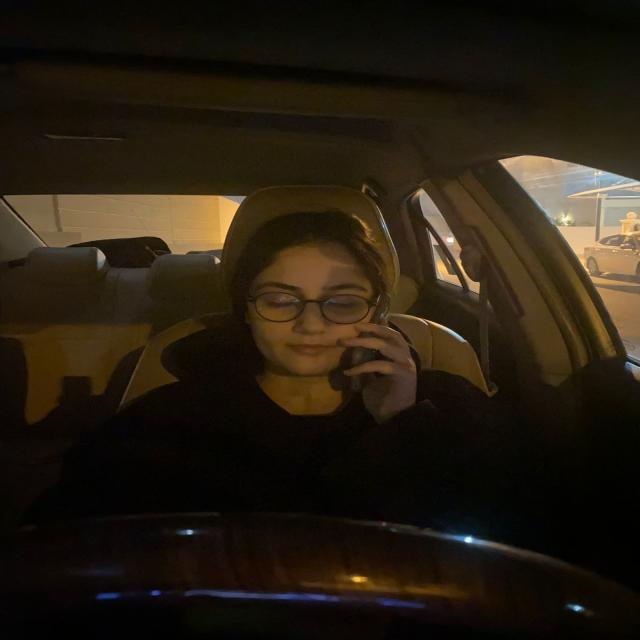phone: (350, 290, 390, 393)
